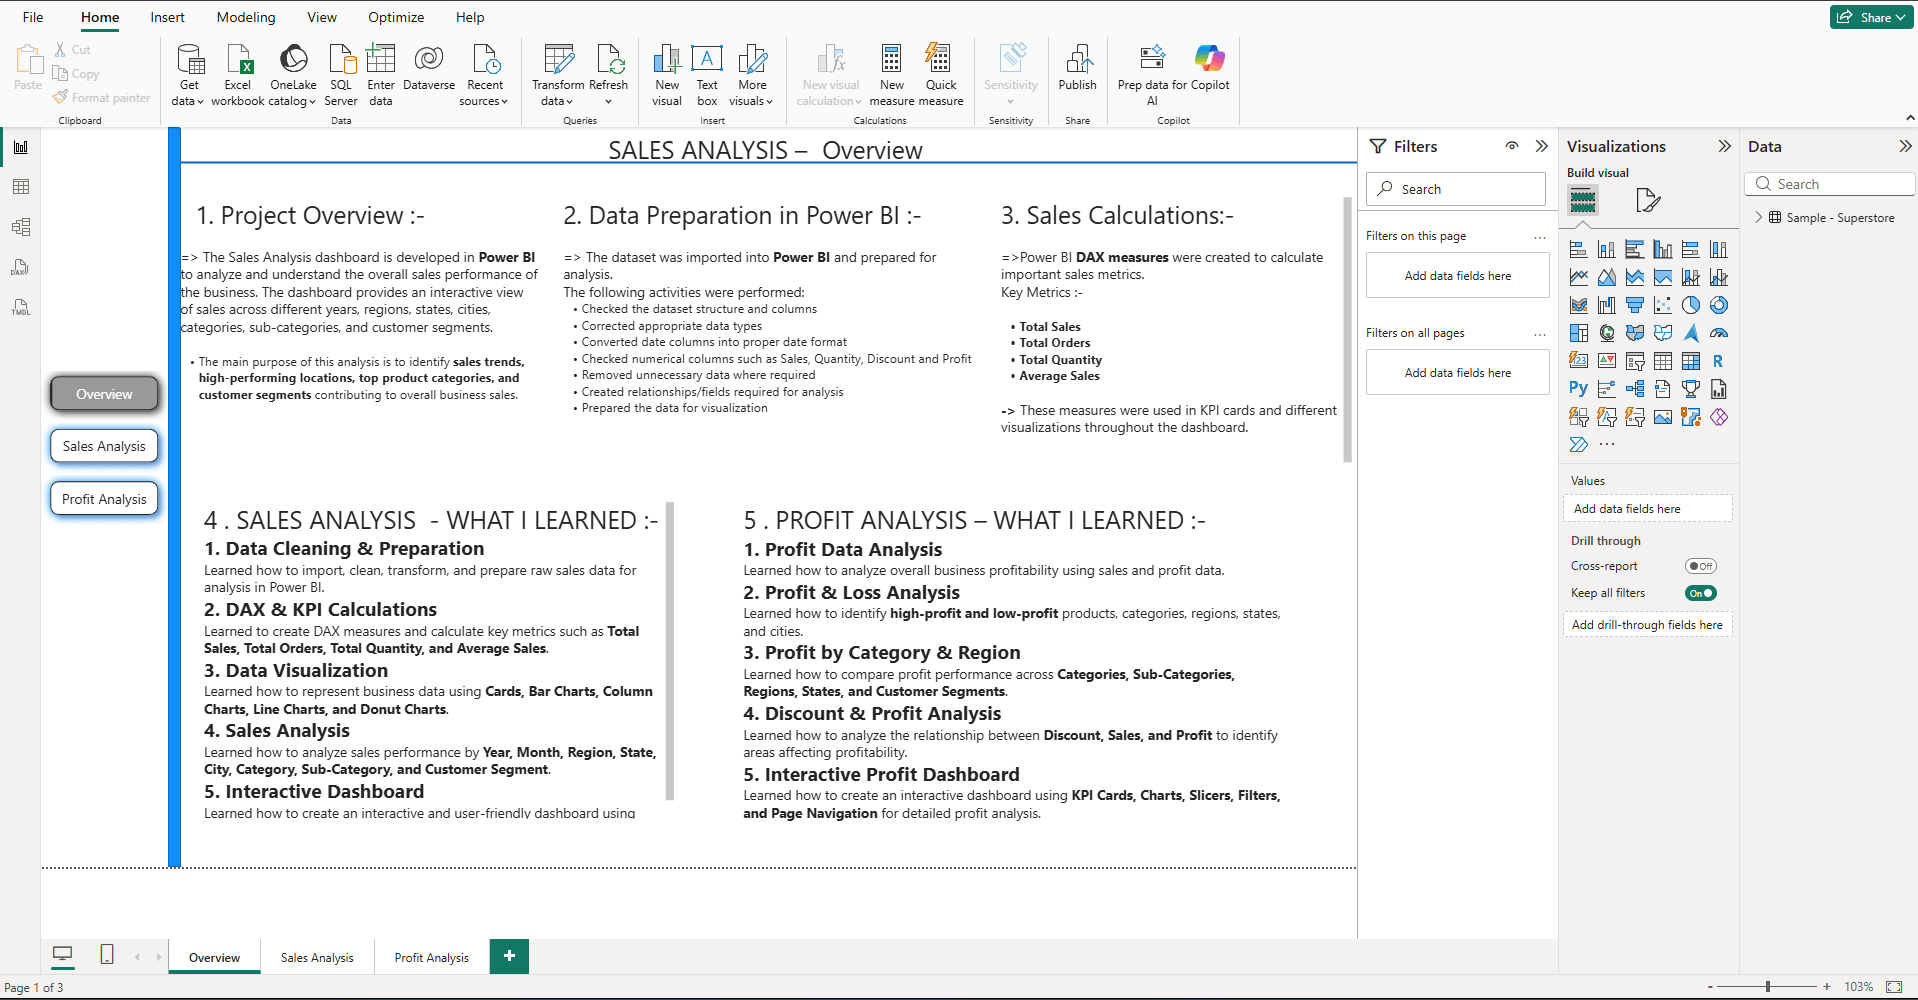

This screenshot's page, from the dashboard's own definition file:
{"tool":"powerbi","page":{"name":"Overview","canvas":[1280,720],"ordinal":0},"visuals":[{"type":"pageNavigator","box":[0,233.4,123.5,155.6],"z":0},{"type":"textbox","box":[130.3,63.2,357.9,254.8],"z":1000},{"type":"textbox","box":[510.6,0,149.8,150.8],"z":2000},{"type":"textbox","box":[736,0,150,151],"z":3000},{"type":"textbox","box":[546.6,0,318.1,52.5],"z":4000},{"type":"shape","box":[123.5,0,12.6,719.8],"z":5000},{"type":"textbox","box":[961,0,150,151],"z":6000},{"type":"actionButton","box":[0,0,41.8,39.9],"z":7000},{"type":"shape","box":[136.2,29.2,1143.8,10.7],"z":8000},{"type":"textbox","box":[502.9,63.2,410.5,254.8],"z":9000},{"type":"textbox","box":[928.9,63.2,351.1,272.3],"z":10000},{"type":"textbox","box":[153.7,359.9,466.9,318.1],"z":11000},{"type":"textbox","box":[677.9,359.9,536.9,332.6],"z":12000}]}

Visuals, with their boxes on the page's 1280x720 design canvas (x1, y1, x2, y2). These are canvas units, not pixel positions in the 1918x1000 screenshot, which may show the page scaled, cropped or inside an application window:
pageNavigator: locate(0, 233, 124, 389)
textbox: locate(130, 63, 488, 318)
textbox: locate(511, 0, 660, 151)
textbox: locate(736, 0, 886, 151)
textbox: locate(547, 0, 865, 52)
shape: locate(124, 0, 136, 720)
textbox: locate(961, 0, 1111, 151)
actionButton: locate(0, 0, 42, 40)
shape: locate(136, 29, 1280, 40)
textbox: locate(503, 63, 913, 318)
textbox: locate(929, 63, 1280, 336)
textbox: locate(154, 360, 621, 678)
textbox: locate(678, 360, 1215, 692)
